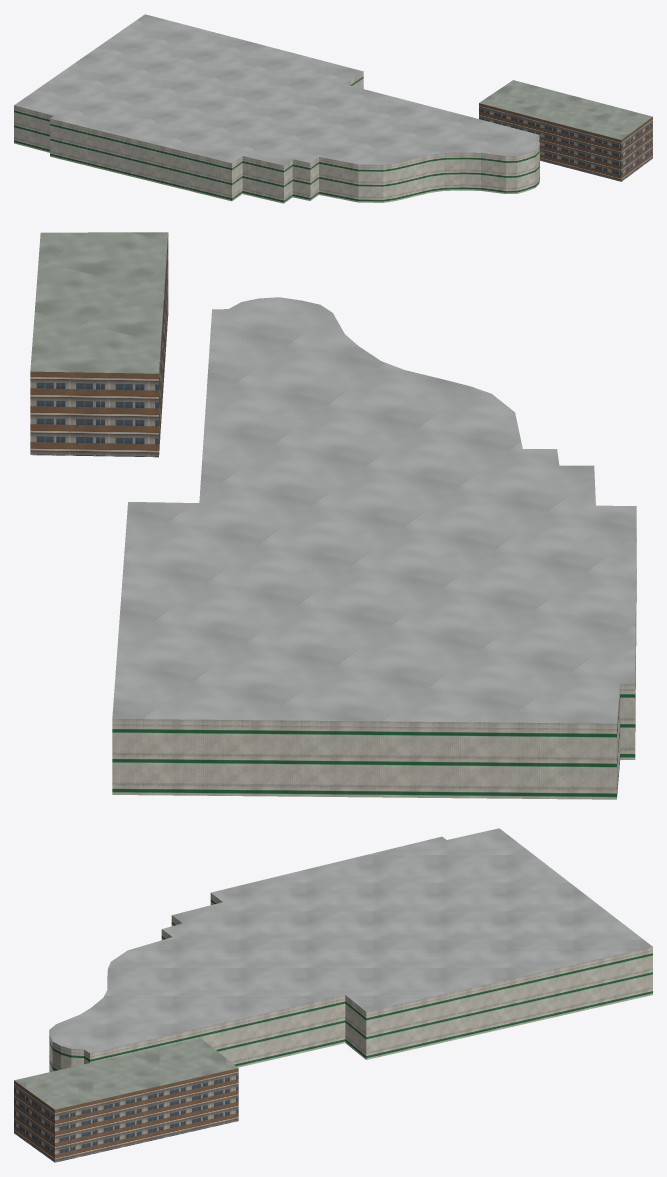
The model's file is ArahaTown_Block_W02048_N01024.gltf.
3 renders of one model, top to bottom at view 1: azimuth 30°, elevation 25°; view 2: azimuth 150°, elevation 25°; view 3: azimuth 270°, elevation 25°, orthographic. The views are drawn at different scales.
Visible parts, largest first — view 1: ArahaTown_Block_W02048_N01024; view 2: ArahaTown_Block_W02048_N01024; view 3: ArahaTown_Block_W02048_N01024.
Boxes of the visible parts, left/top/right/bottom form: ArahaTown_Block_W02048_N01024: left=14, top=14, right=652, bottom=203; ArahaTown_Block_W02048_N01024: left=30, top=232, right=636, bottom=799; ArahaTown_Block_W02048_N01024: left=14, top=828, right=652, bottom=1162.
Size of the model in its own units: 162 by 14.08 by 153.
4 materials, 4 textured.
